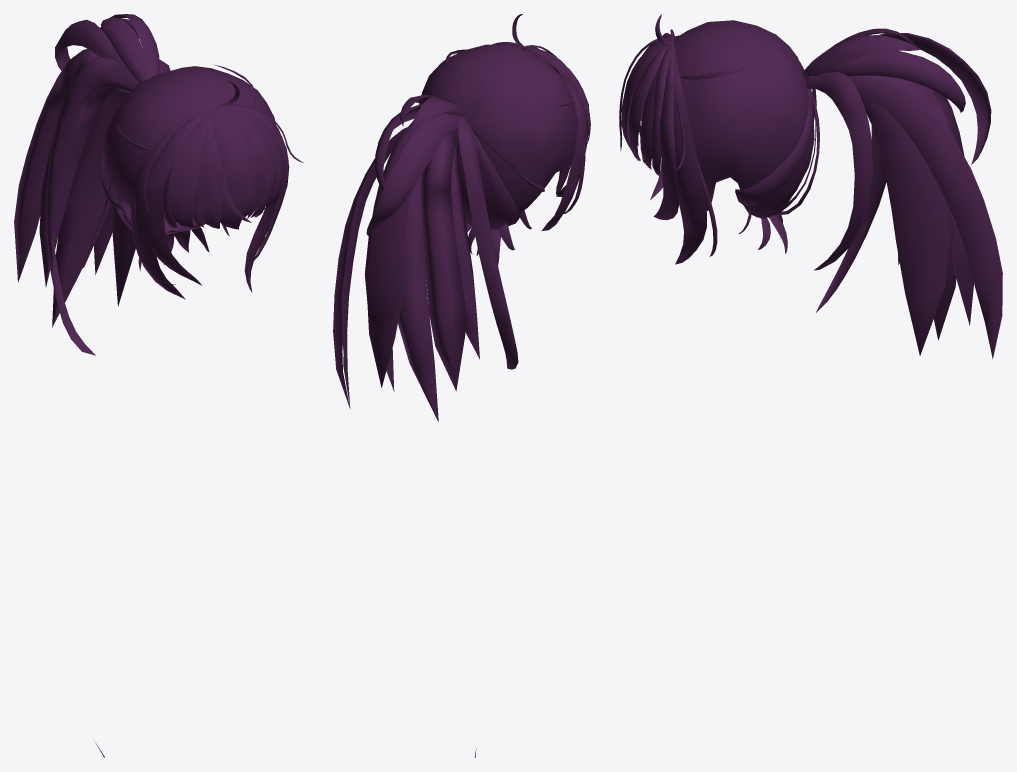
Rendered from pelo tota.fbx.
3 renders of one model, left to right at view 1: azimuth 30°, elevation 25°; view 2: azimuth 150°, elevation 25°; view 3: azimuth 270°, elevation 25°, orthographic. The views are drawn at different scales.
Parts seen in each view (by area): view 1: pello; view 2: pello; view 3: pello.
Boxes of the visible parts, x1,y1,x2,y2 form: pello: [14, 14, 303, 757]; pello: [333, 14, 590, 757]; pello: [619, 14, 1002, 359].
Size of the model in its own units: 409 by 1728 by 789.
